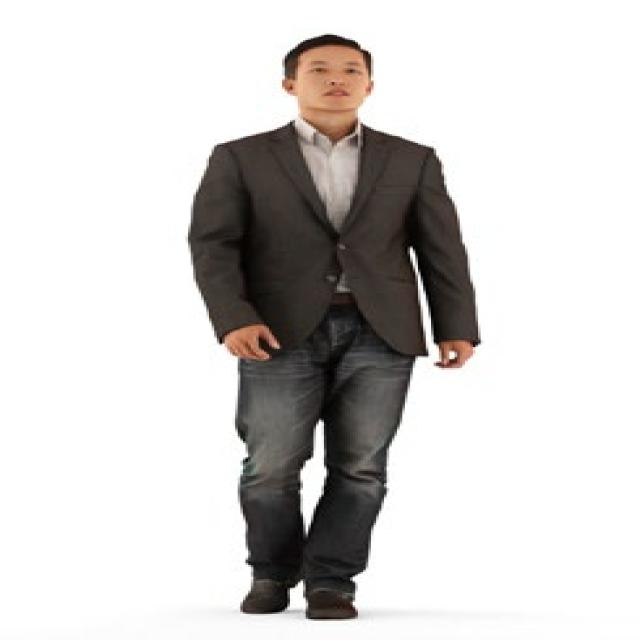standing: (180, 31, 484, 621)
